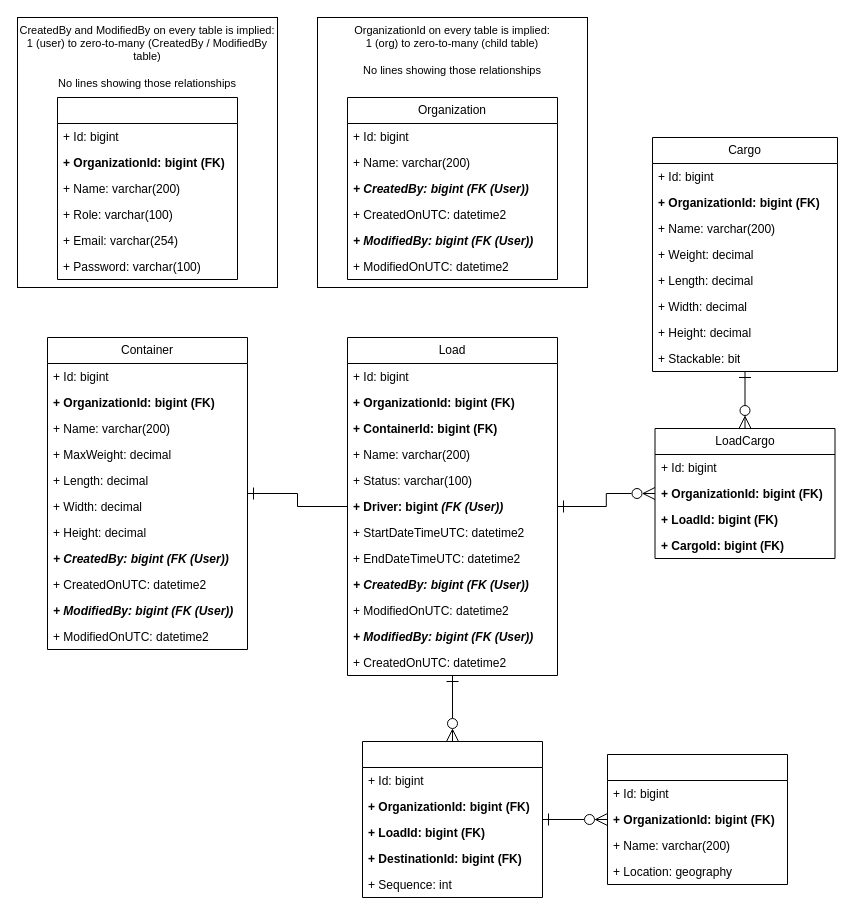
Image size: 855x918. Some labels were removed from this diagram. The shapes that lost their labels are listed below. From the top down, each one's box as (x1, y1, x2, y2) in pixels, then its label:
(56, 96, 238, 280): User
(362, 740, 542, 898): LoadDestinations
(606, 754, 788, 884): Destination
